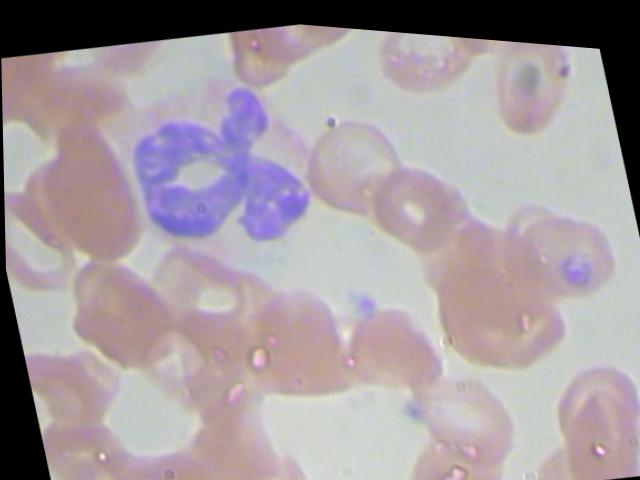Platelets: (345, 280, 385, 319)
Red Blood Cells: (420, 230, 580, 385), (29, 103, 153, 271), (222, 264, 364, 409), (49, 236, 182, 379), (391, 341, 529, 472), (291, 94, 417, 223), (327, 284, 455, 404), (497, 186, 625, 305), (467, 30, 593, 140), (362, 142, 471, 253), (3, 174, 89, 307), (543, 363, 639, 477), (369, 24, 489, 104), (33, 390, 137, 479), (91, 424, 242, 479)
White Blood Cells: (93, 45, 346, 285)
